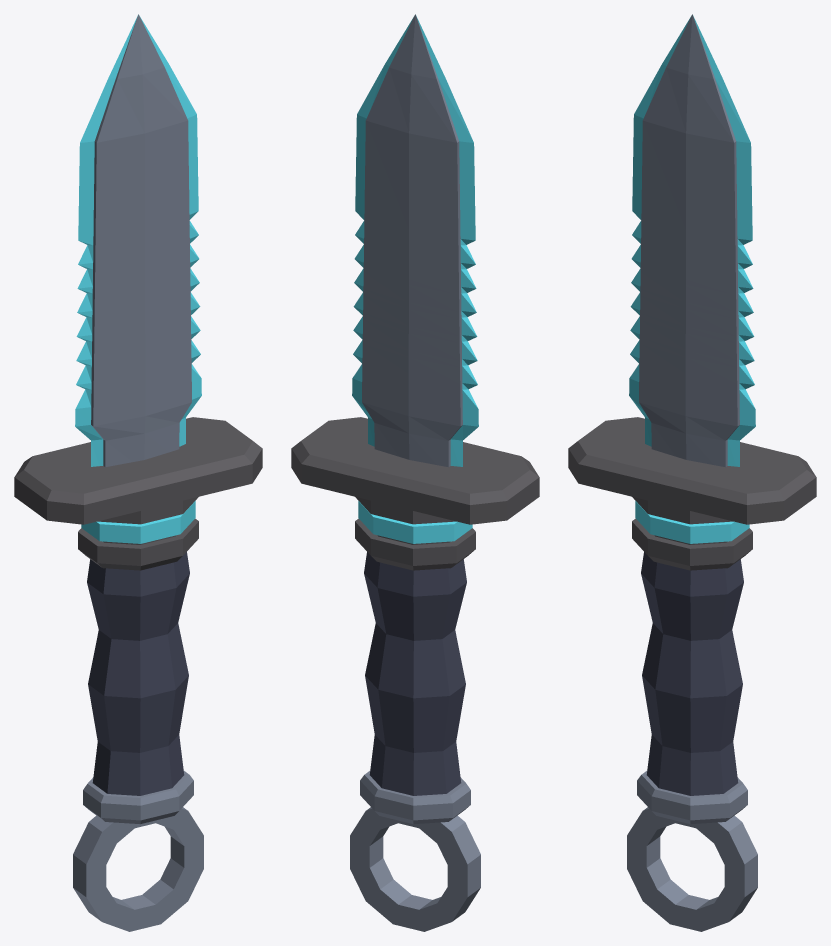
Rendered from knife-3d7947.glb.
3 views of the same model, side by side, from view 1: azimuth 30°, elevation 25°; view 2: azimuth 150°, elevation 25°; view 3: azimuth 330°, elevation 25° (orthographic).
Parts seen in each view (by area): view 1: knife-metal, knife-matte, knife-crystal; view 2: knife-metal, knife-matte, knife-crystal; view 3: knife-metal, knife-matte, knife-crystal.
Part boxes in pixels (bbox=[...]): knife-metal: bbox=[14, 14, 262, 931]; knife-matte: bbox=[87, 552, 189, 795]; knife-crystal: bbox=[75, 15, 201, 543]; knife-metal: bbox=[291, 14, 539, 931]; knife-matte: bbox=[364, 552, 466, 795]; knife-crystal: bbox=[352, 15, 478, 543]; knife-metal: bbox=[568, 14, 816, 931]; knife-matte: bbox=[641, 552, 743, 795]; knife-crystal: bbox=[629, 15, 755, 543].
Size of the model in its own units: 0.092 by 0.3707 by 0.044.
